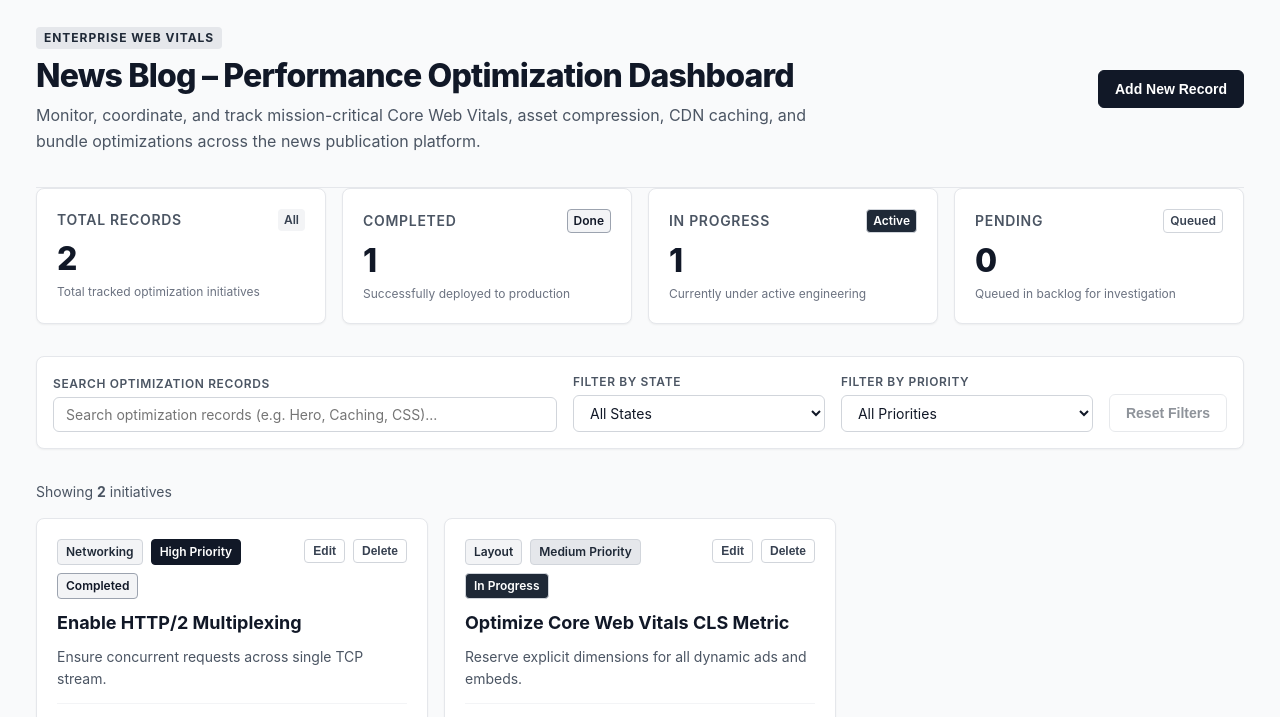
G & H. React Performance and Accessibility Requirements › H. Accessibility › links invalid inputs to accessible error messages via aria-describedby and role="alert"
Click the button "Add New Record": (1171, 89) [1098, 70, 1244, 108]
(page scrolled)
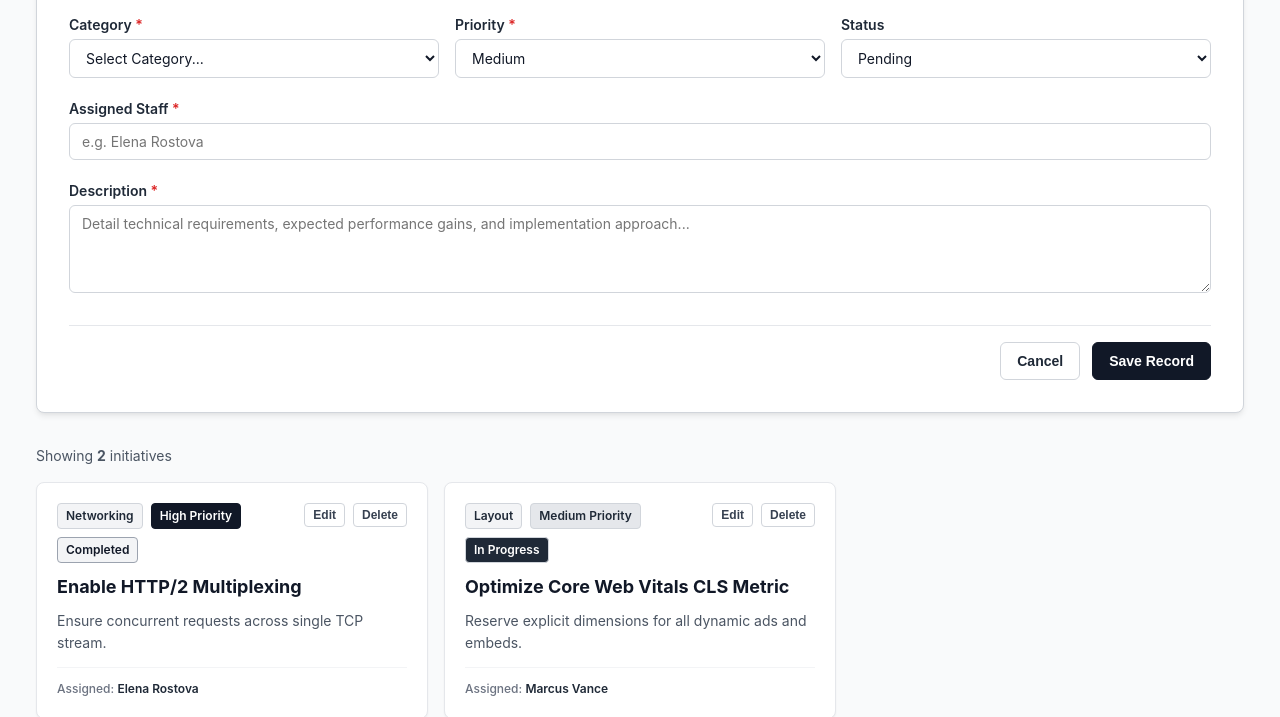
Click the button "Save Record": (1152, 361) [1092, 342, 1211, 380]
(page scrolled)
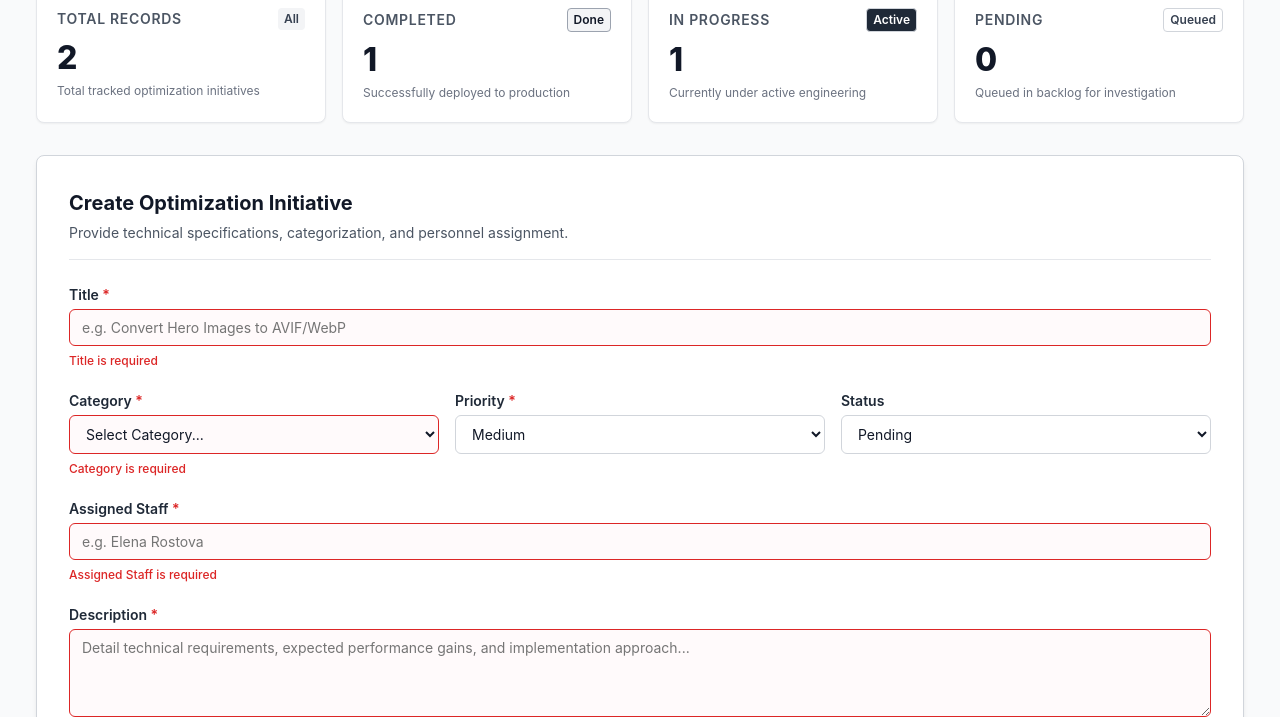
Expected: the message "Title is required" is shown, [69, 353, 158, 368]
